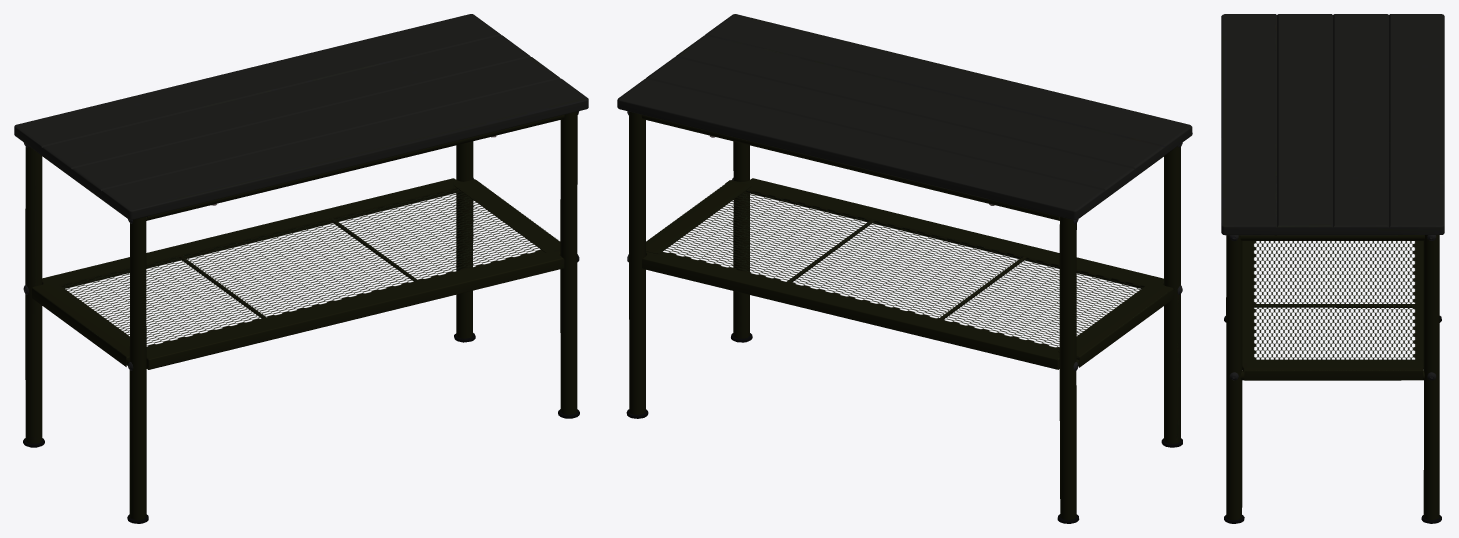
File: nipasen_awka_z_pokami_na_buty_20586142.glb
3 renders of one model, left to right at view 1: azimuth 30°, elevation 25°; view 2: azimuth 150°, elevation 25°; view 3: azimuth 270°, elevation 25°, orthographic. The views are drawn at different scales.
Parts seen in each view (by area): view 1: nipasen_awka_z_pokami_na_buty_20586142; view 2: nipasen_awka_z_pokami_na_buty_20586142; view 3: nipasen_awka_z_pokami_na_buty_20586142.
Part boxes in pixels (x1,y1,x2,y2): nipasen_awka_z_pokami_na_buty_20586142: [14, 14, 588, 523]; nipasen_awka_z_pokami_na_buty_20586142: [617, 14, 1192, 523]; nipasen_awka_z_pokami_na_buty_20586142: [1221, 14, 1444, 523].
Size of the model in its own units: 0.79 by 0.52 by 0.35.
Materials: 2 (2 with a texture image).
